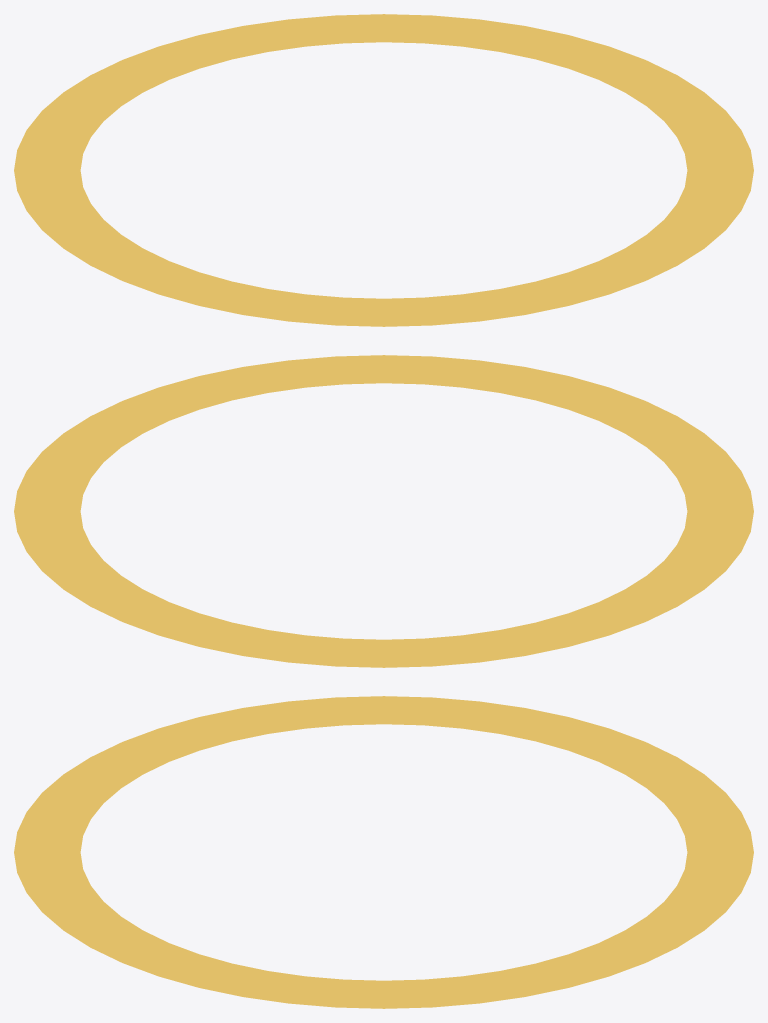
The model's file is fire_nova.glb.
3 views of the same model, one above another, from view 1: azimuth 30°, elevation 25°; view 2: azimuth 150°, elevation 25°; view 3: azimuth 270°, elevation 25° (orthographic).
Parts seen in each view (by area): view 1: fire_nova; view 2: fire_nova; view 3: fire_nova.
Boxes of the visible parts, bbox=[...] form: fire_nova: bbox=[14, 14, 753, 326]; fire_nova: bbox=[14, 355, 753, 667]; fire_nova: bbox=[14, 696, 753, 1008].
Size of the model in its own units: 2 by 0 by 2.
Materials: 1 (1 with a texture image).
